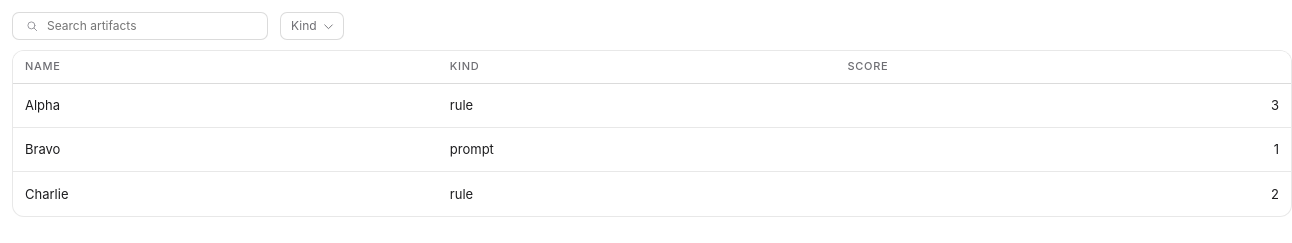
DataTable › offers a clear-filters escape hatch when filters match nothing
In the search field: (150, 26) [45, 16, 255, 36], type "zzz"
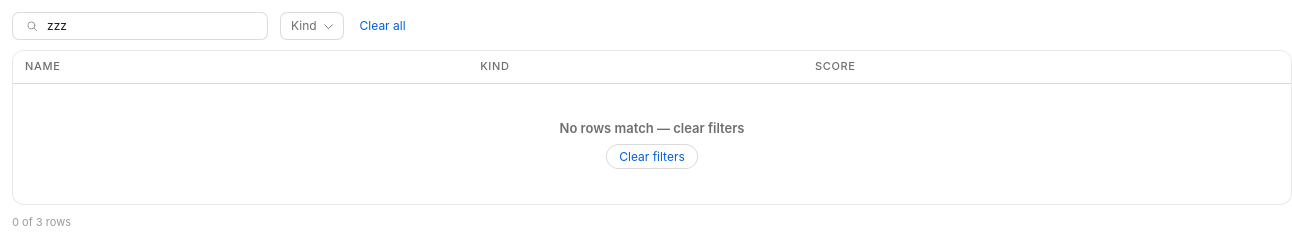
Result: the text "No rows match — clear filters" is shown at [560, 119, 744, 138]
Click the button "Clear filters": (652, 156) [606, 144, 698, 169]
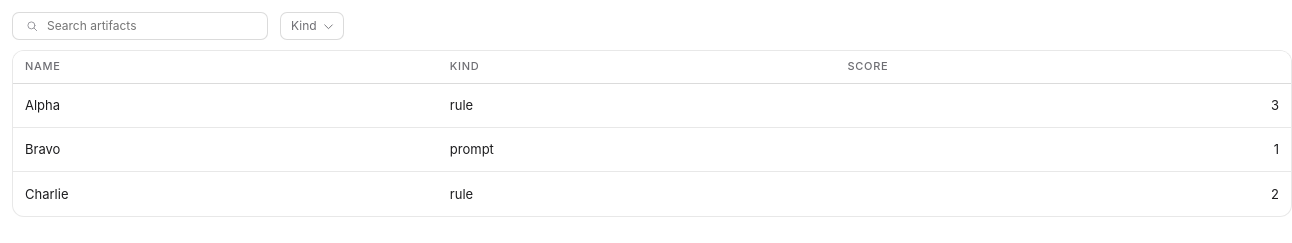
Result: the search field is empty at [45, 16, 255, 36]
